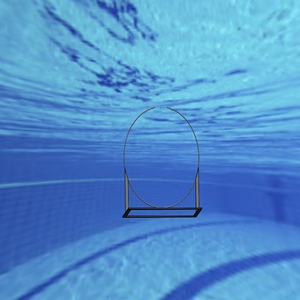circle: (121, 103, 201, 219)
